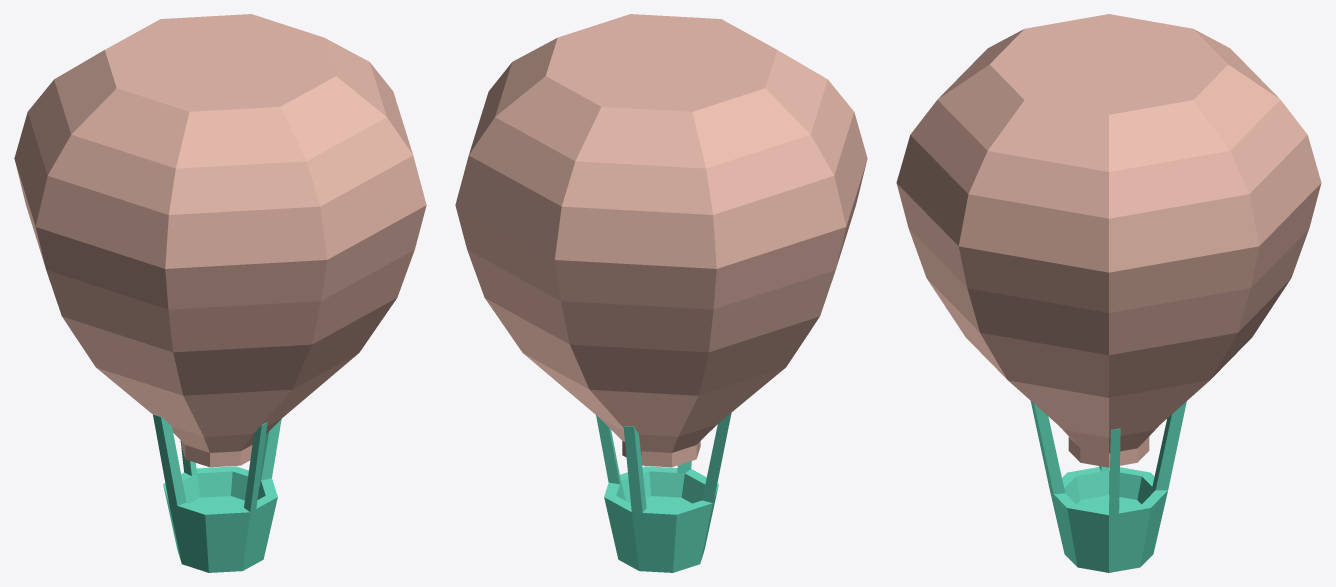
File: _alloon_low.fbx
The picture shows the model from 3 angles, left to right: view 1: azimuth 30°, elevation 25°; view 2: azimuth 150°, elevation 25°; view 3: azimuth 270°, elevation 25°; orthographic projection.
Visible parts, largest first — view 1: Цилиндр; view 2: Цилиндр; view 3: Цилиндр.
Boxes of the visible parts, left/top/right/bottom form: Цилиндр: left=14, top=14, right=426, bottom=572; Цилиндр: left=455, top=14, right=867, bottom=572; Цилиндр: left=896, top=14, right=1321, bottom=572.
Bounding box in the file's own units: 470 × 598 × 470.
